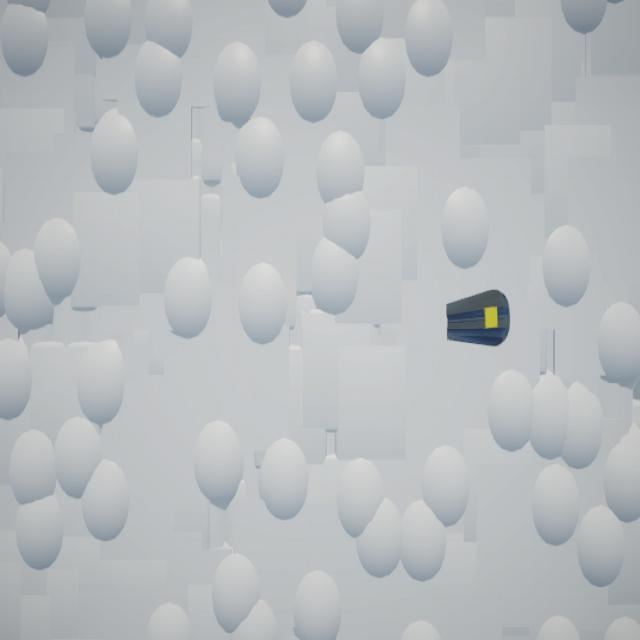handle_folk: (447, 290, 511, 348)
